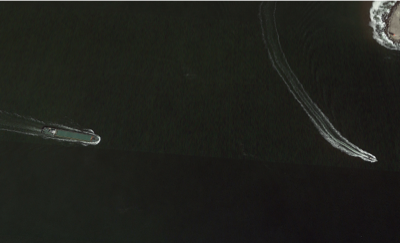boat: (41, 126, 100, 142), (369, 156, 378, 161)
